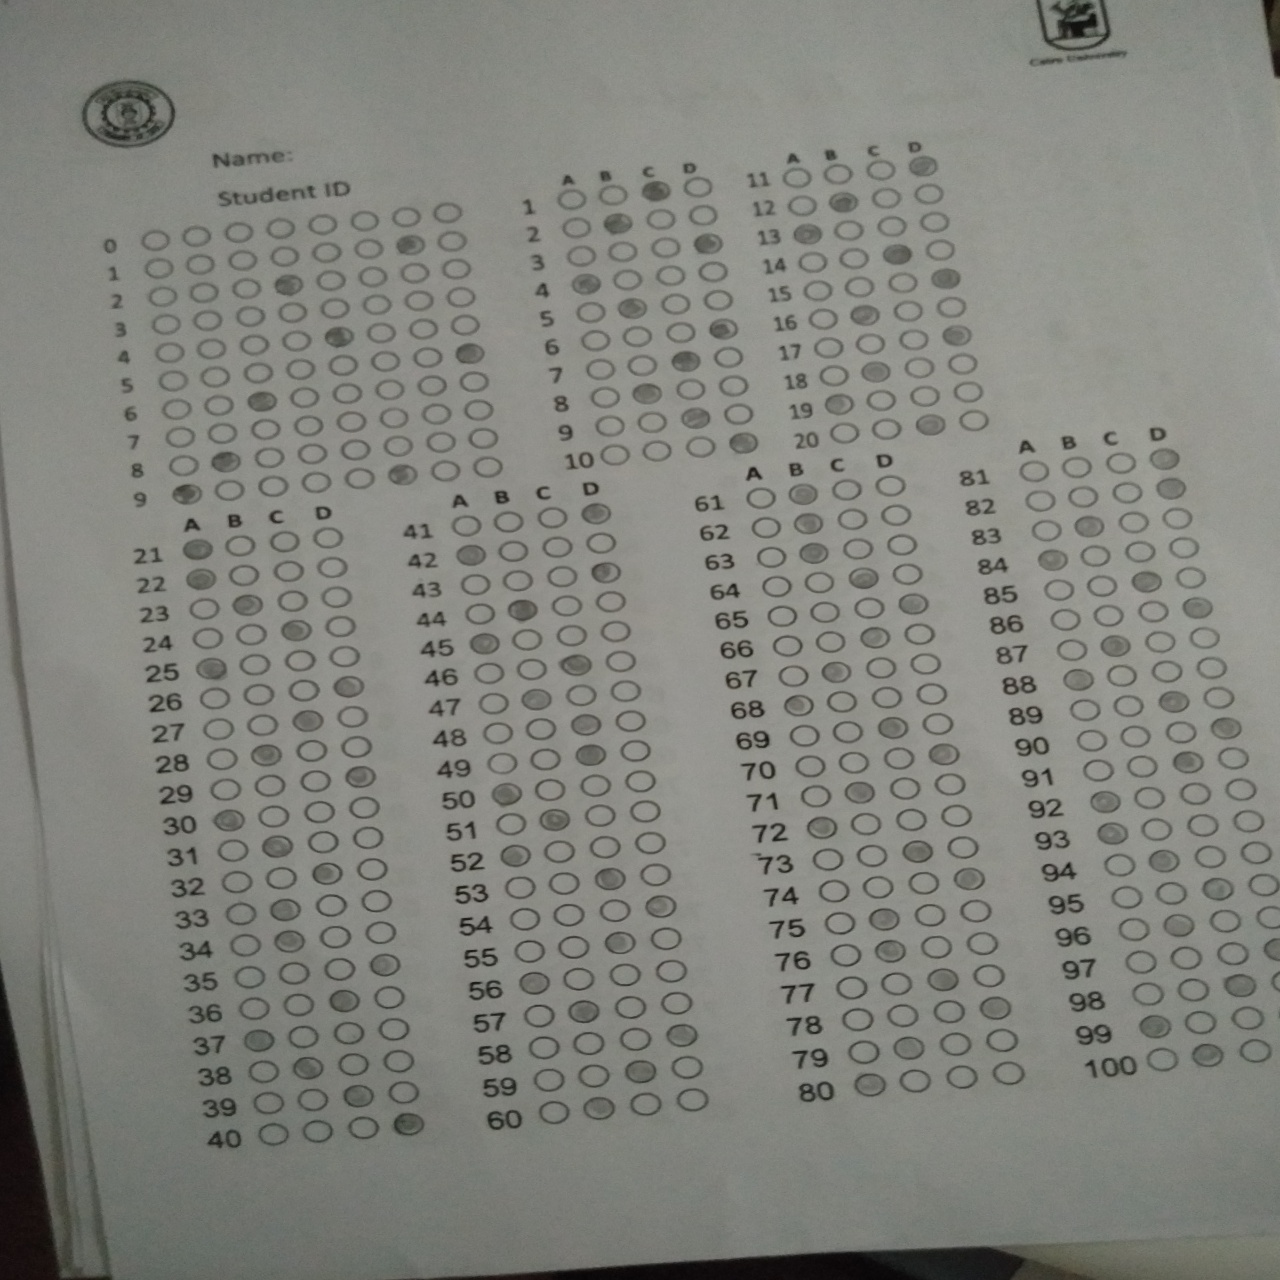not-c: (1141, 628, 1179, 658), (1148, 658, 1186, 687), (832, 973, 870, 1002), (846, 1039, 884, 1068), (1108, 883, 1145, 912), (1122, 537, 1159, 566), (617, 1026, 655, 1054), (813, 877, 852, 905), (1184, 811, 1223, 839), (1230, 808, 1268, 836), (1177, 779, 1216, 808), (1109, 692, 1148, 720), (1102, 662, 1141, 690), (1133, 599, 1172, 627), (1115, 508, 1153, 536), (1108, 479, 1146, 508), (989, 1058, 1026, 1088), (1131, 980, 1167, 1009), (1124, 947, 1160, 976), (1080, 757, 1116, 787), (1185, 625, 1221, 654), (1058, 452, 1095, 482), (234, 995, 272, 1023), (368, 983, 406, 1012), (659, 989, 696, 1017), (511, 937, 549, 965), (502, 873, 539, 901), (632, 829, 669, 857), (627, 798, 665, 826), (622, 768, 660, 796), (540, 533, 578, 561), (549, 593, 586, 621), (544, 564, 581, 592), (821, 908, 858, 937), (964, 930, 1001, 958), (828, 941, 865, 969), (838, 1006, 876, 1034), (937, 1030, 974, 1058), (944, 1062, 981, 1090), (1144, 1047, 1182, 1075), (1114, 915, 1151, 944), (1237, 1037, 1274, 1065), (1223, 776, 1260, 804), (1216, 745, 1253, 774), (1117, 723, 1155, 751), (1074, 726, 1111, 754), (1166, 536, 1204, 564), (1046, 606, 1083, 634), (1015, 458, 1053, 486), (652, 958, 690, 985), (1160, 719, 1199, 745), (1193, 655, 1228, 685), (1080, 542, 1115, 571), (1065, 484, 1101, 513), (239, 681, 275, 709), (198, 685, 234, 713), (227, 931, 264, 959), (232, 964, 268, 992), (376, 1016, 413, 1044), (505, 905, 542, 933), (485, 749, 522, 777), (613, 707, 649, 735), (602, 647, 639, 675), (593, 588, 629, 617), (583, 527, 619, 556), (481, 720, 517, 748), (553, 622, 590, 651), (597, 442, 633, 470), (720, 402, 756, 430), (594, 182, 631, 210), (930, 998, 966, 1026), (983, 1026, 1020, 1054), (897, 1068, 933, 1096), (1169, 944, 1205, 972), (1103, 851, 1139, 879), (1153, 880, 1190, 908), (1138, 815, 1175, 843), (1067, 697, 1103, 726), (236, 651, 273, 678), (250, 772, 287, 799), (293, 738, 331, 765), (339, 733, 376, 760), (302, 799, 340, 826), (257, 803, 294, 830), (216, 837, 253, 864), (218, 869, 256, 896), (313, 893, 350, 920), (222, 901, 259, 928), (331, 1020, 368, 1047), (282, 1024, 320, 1051), (251, 1090, 288, 1117), (343, 1114, 381, 1141), (535, 1099, 572, 1126), (576, 1062, 613, 1089), (626, 1091, 663, 1118), (520, 1002, 558, 1029), (583, 802, 620, 829), (618, 738, 655, 765), (597, 617, 634, 644), (495, 538, 532, 565), (499, 567, 537, 594), (508, 626, 545, 653), (533, 504, 571, 531), (638, 440, 675, 467), (716, 373, 754, 400), (673, 376, 710, 403), (586, 383, 624, 410), (578, 328, 615, 355), (563, 243, 600, 270), (911, 903, 948, 930), (1182, 1010, 1219, 1037), (1175, 978, 1212, 1005), (1239, 839, 1276, 866), (1192, 843, 1230, 870), (1123, 753, 1160, 779), (1171, 565, 1208, 592), (1160, 506, 1198, 533), (1082, 572, 1119, 599), (1042, 577, 1080, 604), (1089, 602, 1126, 629), (576, 772, 614, 798), (462, 602, 501, 628), (669, 1054, 704, 1082), (651, 925, 686, 953), (1245, 872, 1280, 900), (282, 647, 319, 674), (325, 644, 361, 670), (244, 712, 280, 738), (200, 716, 237, 743), (203, 745, 239, 772), (207, 776, 244, 803), (335, 704, 372, 731), (347, 794, 383, 821), (261, 865, 298, 892), (349, 825, 386, 852), (321, 956, 358, 983), (275, 960, 312, 987), (280, 990, 316, 1017), (246, 1058, 282, 1085), (336, 1051, 373, 1078), (380, 1048, 416, 1075), (384, 1080, 421, 1107), (295, 1087, 332, 1114), (256, 1121, 292, 1148), (299, 1117, 335, 1144), (675, 1087, 712, 1114), (526, 1036, 563, 1063), (559, 965, 595, 992), (551, 903, 587, 930), (636, 862, 673, 888), (587, 835, 624, 862), (493, 810, 530, 837), (527, 745, 564, 772), (607, 678, 644, 704), (523, 716, 559, 743), (563, 681, 599, 708), (449, 512, 485, 539), (742, 485, 778, 512), (591, 414, 627, 441), (959, 898, 995, 925), (919, 934, 955, 961), (885, 1003, 921, 1030), (879, 971, 915, 998), (971, 964, 1007, 990), (1206, 907, 1242, 934), (1230, 1005, 1266, 1032), (1131, 785, 1167, 812), (1200, 685, 1237, 712), (1054, 636, 1090, 663), (1028, 517, 1064, 544), (1024, 488, 1061, 515), (1104, 450, 1141, 477), (353, 856, 390, 881), (531, 1068, 568, 1094), (570, 1030, 607, 1056), (613, 995, 651, 1021), (554, 934, 592, 960), (606, 962, 644, 988), (545, 871, 583, 897), (540, 839, 578, 865), (633, 410, 670, 436), (583, 358, 620, 383), (557, 215, 594, 240), (553, 188, 588, 215), (710, 345, 745, 372), (951, 379, 986, 406), (792, 753, 828, 779), (1216, 940, 1251, 967), (285, 678, 321, 703), (297, 768, 333, 794), (305, 830, 341, 856), (316, 924, 353, 949), (598, 898, 634, 924), (515, 658, 551, 683), (476, 692, 512, 717), (471, 661, 508, 687), (682, 434, 719, 459), (648, 236, 685, 261), (652, 263, 688, 288), (890, 298, 926, 324), (256, 474, 290, 501), (828, 418, 862, 445), (267, 529, 302, 554), (225, 563, 260, 588), (358, 888, 393, 914), (363, 920, 399, 946), (533, 778, 568, 804), (459, 572, 495, 598), (492, 509, 527, 535), (574, 300, 610, 326), (680, 173, 715, 199), (610, 267, 645, 293), (799, 277, 835, 302), (886, 271, 921, 297), (911, 181, 946, 206), (831, 217, 866, 243), (837, 246, 872, 272), (795, 248, 830, 274), (779, 165, 815, 191), (852, 331, 887, 356), (829, 478, 864, 504), (748, 515, 783, 540), (884, 532, 919, 558), (903, 621, 938, 647), (775, 662, 810, 688), (869, 685, 904, 710), (829, 719, 864, 744), (809, 847, 844, 873), (430, 200, 464, 226), (410, 345, 444, 370), (241, 359, 275, 384), (198, 365, 232, 390), (195, 336, 229, 362), (142, 257, 176, 282), (149, 312, 183, 338), (166, 452, 200, 478), (420, 401, 454, 427), (186, 595, 220, 621), (685, 202, 719, 227), (605, 238, 639, 264), (658, 291, 692, 316), (619, 324, 653, 349), (662, 320, 696, 346), (787, 193, 821, 219), (896, 327, 930, 353), (946, 350, 980, 376), (955, 407, 989, 433), (872, 474, 906, 499), (835, 506, 869, 532), (839, 536, 873, 561), (891, 561, 925, 587), (852, 595, 886, 621), (907, 651, 941, 676), (787, 723, 821, 749), (881, 745, 915, 771), (799, 784, 833, 810), (893, 808, 927, 833), (945, 835, 979, 860), (860, 874, 894, 900), (137, 227, 172, 252), (237, 333, 272, 358), (186, 282, 222, 307), (428, 458, 463, 483), (924, 238, 959, 263), (918, 210, 953, 234), (819, 163, 855, 188), (869, 417, 904, 442), (805, 307, 840, 332), (758, 576, 794, 600), (764, 605, 799, 629), (812, 629, 847, 654), (914, 681, 949, 706), (836, 751, 871, 776), (888, 776, 924, 801), (849, 812, 884, 837), (853, 844, 888, 869), (435, 229, 468, 254), (440, 256, 472, 281), (313, 268, 346, 294), (359, 291, 392, 316), (374, 376, 407, 402), (202, 392, 234, 417), (381, 434, 414, 459), (191, 625, 224, 651), (447, 312, 481, 336), (406, 316, 440, 341), (350, 238, 384, 263), (309, 240, 343, 265), (331, 382, 365, 407), (282, 358, 316, 382), (224, 248, 258, 273), (229, 277, 263, 301), (147, 285, 181, 309), (205, 421, 239, 445), (248, 418, 282, 443), (288, 386, 322, 410), (295, 442, 329, 467), (377, 407, 411, 431), (461, 399, 495, 423), (271, 559, 305, 584), (275, 588, 309, 613), (234, 622, 268, 647), (644, 206, 678, 231), (696, 259, 730, 284), (702, 288, 736, 313), (624, 353, 658, 377), (844, 274, 878, 299), (871, 185, 905, 210), (876, 215, 910, 239), (863, 159, 897, 184), (935, 294, 969, 319), (903, 355, 937, 380), (908, 382, 942, 407), (864, 388, 898, 413), (818, 365, 852, 389), (812, 335, 846, 360), (878, 503, 912, 527), (755, 545, 789, 570), (801, 571, 835, 595), (806, 600, 840, 625), (770, 634, 804, 659), (864, 655, 898, 680), (824, 690, 858, 715), (920, 712, 954, 736), (933, 772, 967, 797), (939, 803, 973, 828), (906, 871, 940, 896), (179, 224, 212, 248), (265, 217, 298, 241), (348, 209, 381, 233), (445, 285, 478, 309), (318, 297, 350, 321), (365, 320, 397, 345), (368, 349, 401, 374), (415, 374, 448, 399), (234, 305, 267, 329), (190, 309, 223, 334), (156, 369, 189, 394), (252, 445, 285, 470), (292, 414, 325, 438), (467, 427, 499, 451), (425, 429, 458, 454), (471, 455, 504, 479), (343, 467, 376, 491), (301, 469, 334, 493), (223, 535, 256, 559), (311, 525, 343, 550), (315, 554, 348, 579), (320, 585, 353, 610), (222, 220, 256, 244), (306, 213, 340, 237), (327, 354, 361, 377), (279, 329, 313, 353), (275, 301, 309, 325), (161, 399, 195, 422), (390, 205, 423, 229), (403, 290, 436, 313), (399, 261, 431, 285), (356, 266, 389, 290), (457, 370, 490, 394), (268, 245, 301, 268), (184, 252, 217, 275), (152, 341, 185, 365), (163, 425, 196, 449), (334, 409, 367, 433), (340, 438, 373, 462), (212, 479, 245, 503), (325, 615, 358, 639), (1253, 901, 1280, 930)
taken-c: (1085, 788, 1124, 816), (211, 806, 248, 835), (246, 741, 284, 769), (873, 937, 911, 965), (851, 1071, 888, 1099), (1137, 1013, 1175, 1041), (1144, 445, 1182, 474), (938, 322, 975, 350), (825, 188, 863, 216), (599, 209, 636, 237), (564, 998, 602, 1024), (275, 617, 314, 644), (802, 813, 840, 840), (1169, 750, 1207, 777), (1128, 568, 1166, 595), (911, 411, 949, 438), (856, 358, 894, 384), (704, 316, 743, 343), (166, 481, 205, 508), (268, 272, 307, 299), (260, 833, 297, 862), (193, 655, 230, 683), (181, 565, 217, 593), (866, 905, 903, 933), (667, 349, 703, 377), (244, 388, 280, 416), (663, 1022, 701, 1049), (290, 1055, 327, 1082), (949, 865, 987, 892), (924, 967, 961, 994), (1155, 689, 1192, 716), (1058, 667, 1096, 694), (1096, 631, 1133, 658), (1034, 549, 1071, 576), (1152, 476, 1190, 503), (821, 392, 858, 418), (847, 304, 885, 331), (879, 241, 917, 268), (904, 154, 941, 181), (692, 230, 729, 257), (613, 295, 651, 322), (678, 404, 715, 431), (207, 449, 245, 476), (320, 324, 358, 350), (179, 536, 215, 564), (1207, 714, 1242, 742), (724, 430, 760, 458), (642, 893, 679, 920), (341, 1083, 377, 1110), (899, 837, 935, 864), (978, 994, 1014, 1021), (890, 1035, 926, 1062), (1189, 1042, 1225, 1069), (1223, 972, 1259, 999), (1200, 876, 1237, 903), (1148, 849, 1184, 876), (1095, 821, 1131, 847), (1179, 594, 1216, 621), (636, 178, 673, 205), (629, 381, 666, 408), (384, 461, 421, 488), (451, 341, 488, 368), (515, 971, 552, 996), (622, 1058, 660, 1084), (325, 987, 362, 1013), (265, 898, 302, 924), (308, 862, 346, 887), (602, 930, 638, 956), (392, 1111, 427, 1138), (240, 1028, 275, 1055), (781, 692, 816, 719), (1071, 515, 1107, 542), (928, 266, 964, 293), (792, 222, 828, 248), (568, 270, 604, 297), (537, 808, 573, 833), (497, 843, 533, 869), (591, 866, 627, 892), (580, 1095, 617, 1121), (367, 952, 403, 978), (270, 930, 306, 955), (343, 764, 380, 790), (290, 709, 326, 735), (331, 674, 367, 700), (229, 593, 265, 619), (1162, 913, 1198, 939), (390, 233, 427, 259), (557, 653, 594, 678), (489, 781, 524, 806), (894, 591, 930, 617), (505, 598, 542, 622), (796, 542, 832, 566), (857, 626, 893, 651), (874, 715, 911, 740), (925, 742, 961, 767), (842, 781, 878, 805), (452, 543, 488, 567), (579, 502, 614, 526), (467, 631, 502, 655), (519, 687, 554, 712), (568, 712, 604, 736), (846, 566, 881, 591), (587, 561, 624, 585), (791, 512, 828, 536), (787, 482, 821, 506), (574, 744, 610, 768), (819, 661, 855, 685)
